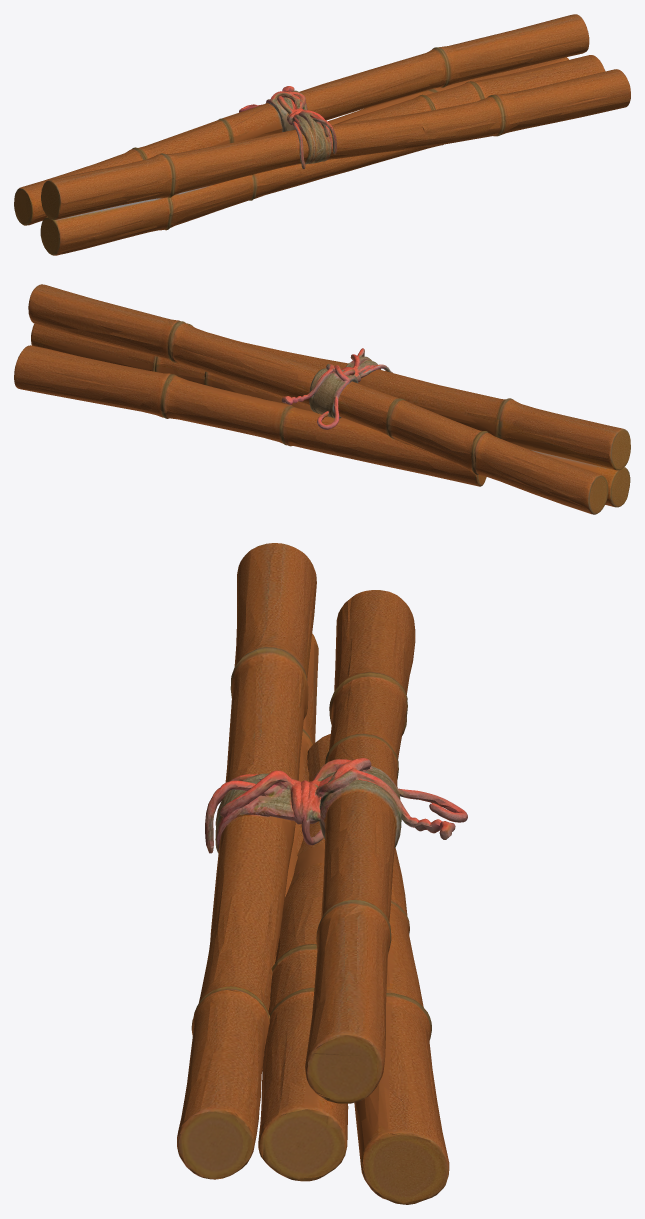
Rendered from DEC_BAMBOO_001_old.glb.
3 renders of one model, top to bottom at view 1: azimuth 30°, elevation 25°; view 2: azimuth 150°, elevation 25°; view 3: azimuth 270°, elevation 25°, orthographic. The views are drawn at different scales.
Size of the model in its own units: 1.9 by 0.3051 by 0.4274.
Materials: 1 (1 with a texture image).
